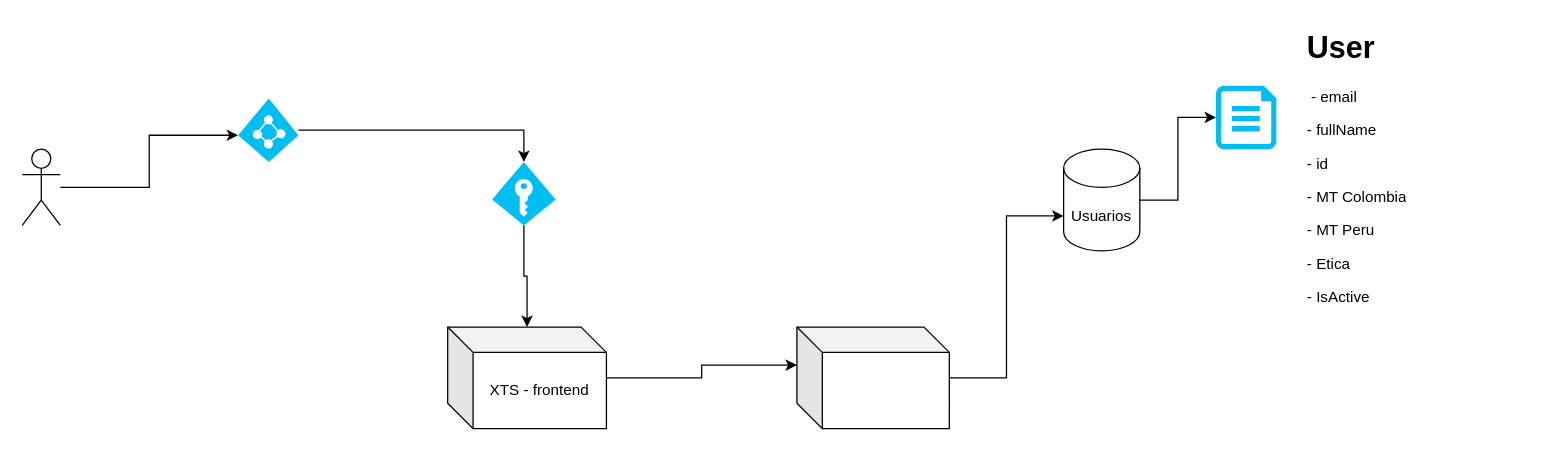
The diagram is 1556 pixels wide and 451 high, and some of its shapes have lost their labels. The shapes that lost their labels are listed below. From the top down, each one's centre as x and y in pixels, then its label:
At pixel 40 186: "Actor".
At pixel 872 377: "XTS - backend".
